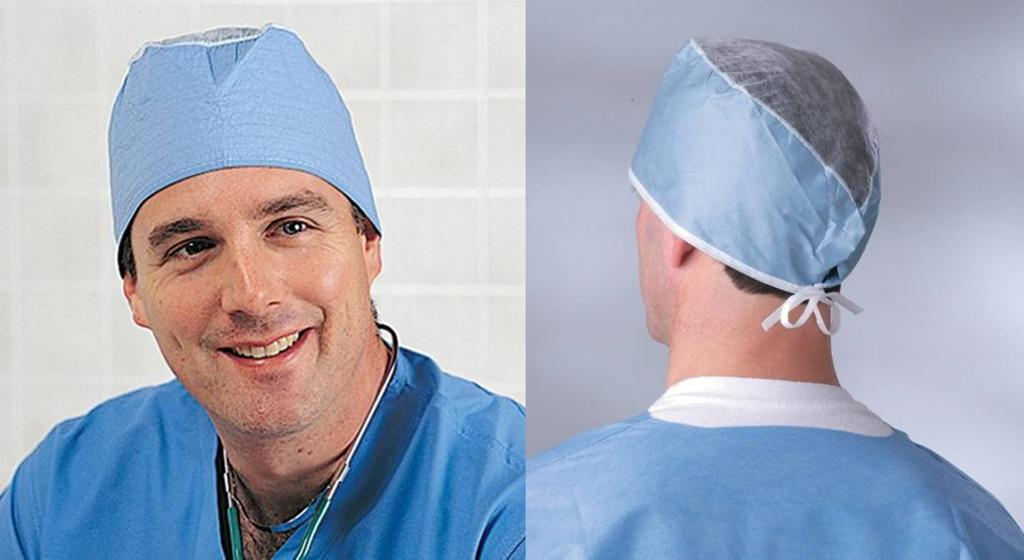face: (130, 152, 364, 430)
